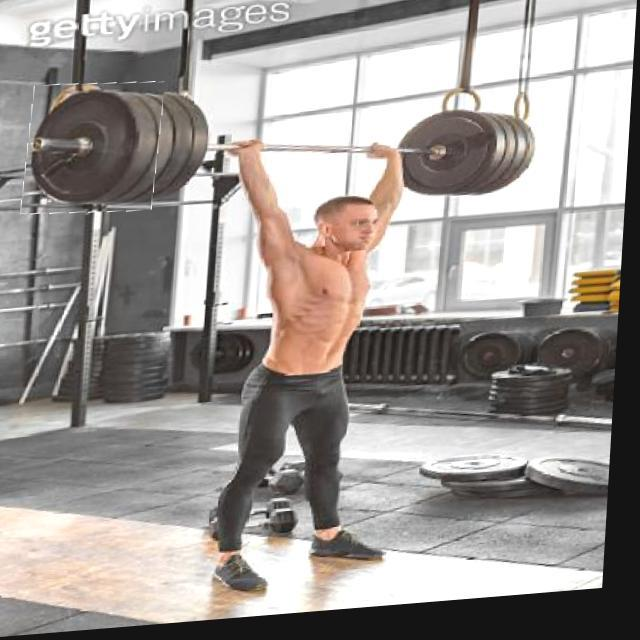barbell: (25, 80, 165, 221)
